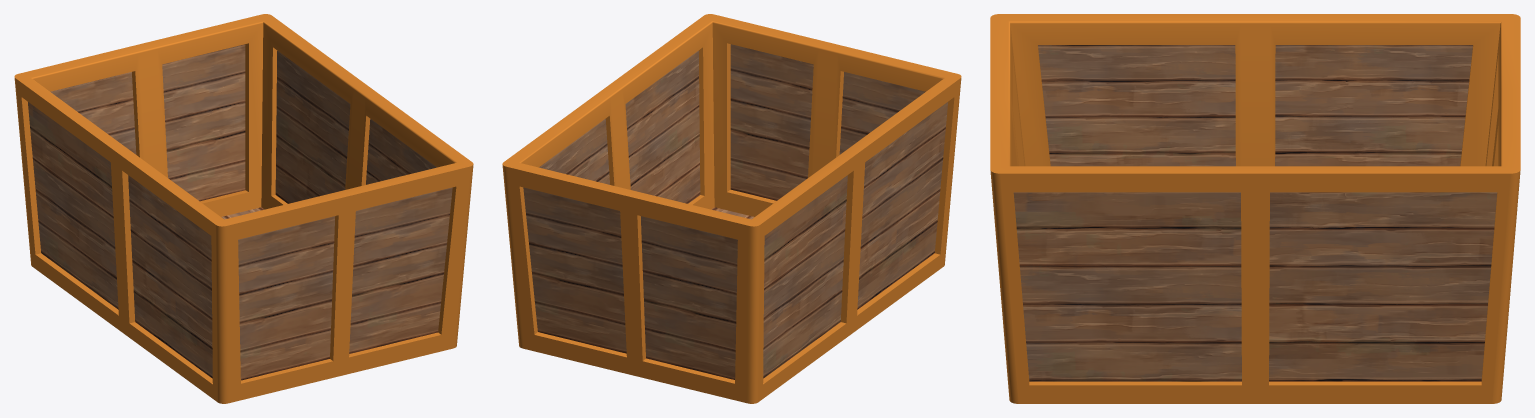
Rendered from CrateBox.fbx.
The picture shows the model from 3 angles, left to right: view 1: azimuth 30°, elevation 25°; view 2: azimuth 150°, elevation 25°; view 3: azimuth 270°, elevation 25°; orthographic projection. The views are drawn at different scales.
Visible parts, largest first — view 1: CrateBodyBevel; view 2: CrateBodyBevel; view 3: CrateBodyBevel.
Boxes of the visible parts, x1,y1,x2,y2 form: CrateBodyBevel: (14,14,473,403); CrateBodyBevel: (502,14,961,403); CrateBodyBevel: (990,14,1520,403).
Size of the model in its own units: 1247 by 860 by 1750.
